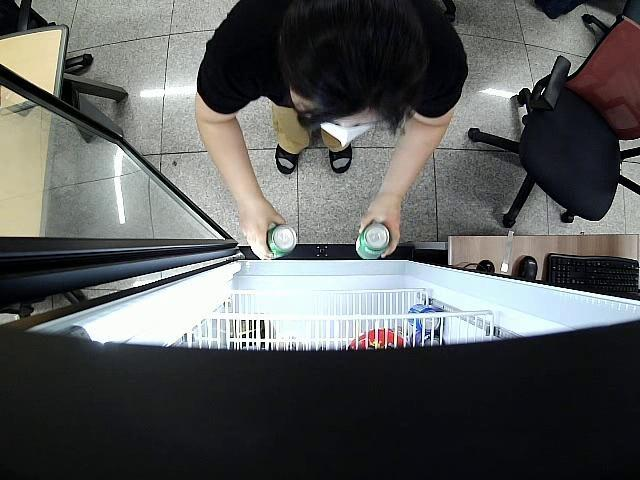12_chilsungCider: (355, 221, 390, 260), (263, 223, 298, 260)
